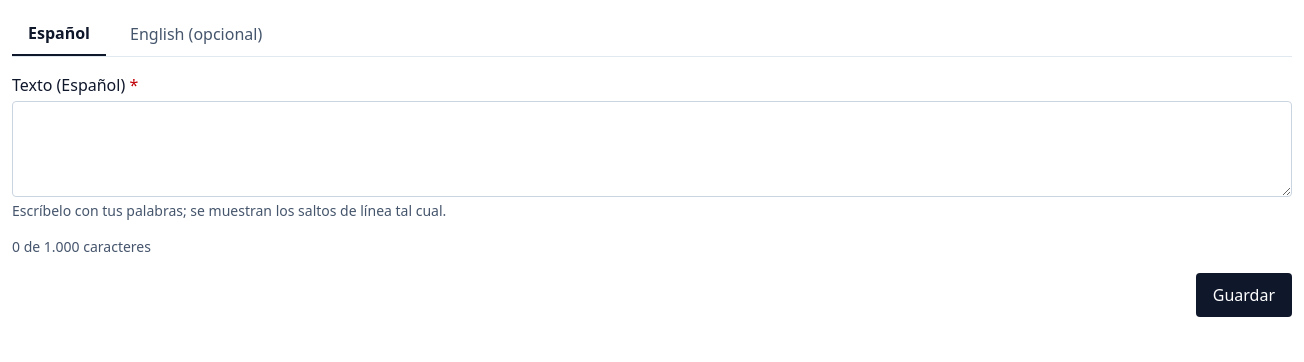
Test case: WhoWeAreForm · «quiénes somos» (FR-003) › exige el texto en español y no guarda nada si falta
The width and height of the screenshot is (1304, 362).
Expected: the text box labelled "Texto (Español) *" is shown, [12, 101, 1292, 197]
Click the button "Guardar". click: [1244, 295]
box: [1196, 273, 1292, 317]
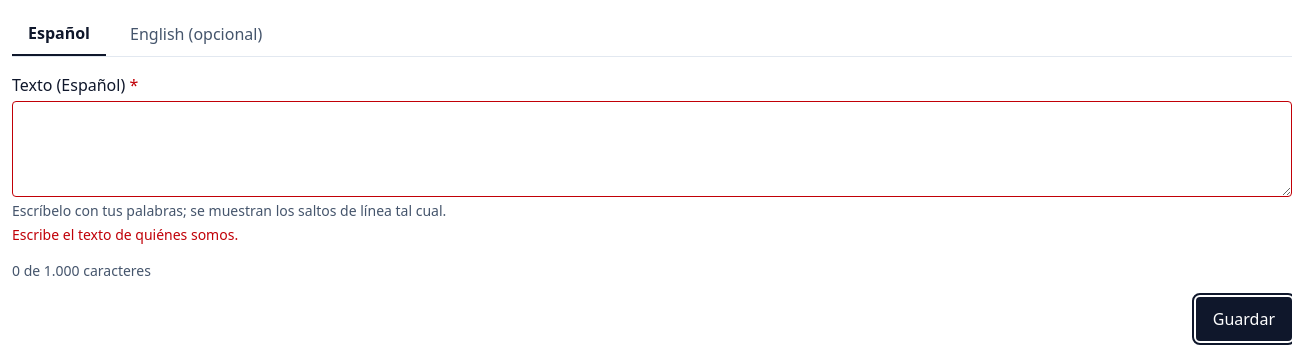
Result: the text "Escribe el texto de quiénes somos." is shown at [12, 225, 238, 244]
